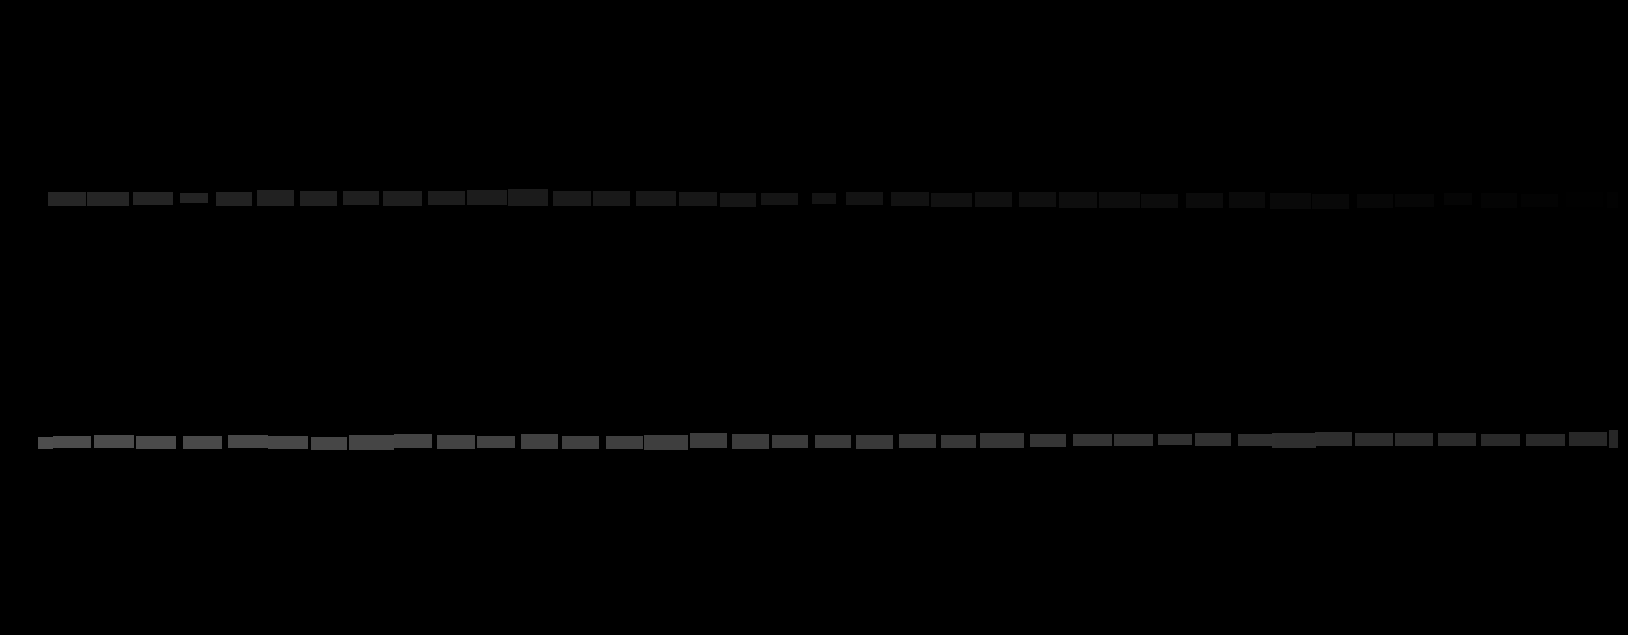light: (508, 189, 548, 206), (644, 435, 688, 450), (349, 435, 394, 450), (1272, 433, 1315, 448), (980, 433, 1024, 448), (1270, 193, 1311, 209), (1098, 192, 1140, 208), (636, 191, 676, 206), (467, 190, 507, 205), (257, 190, 294, 206), (87, 192, 129, 206), (1059, 192, 1097, 208), (383, 191, 422, 206), (931, 193, 972, 208), (1566, 192, 1603, 208), (1019, 192, 1056, 208), (975, 192, 1012, 208), (593, 191, 630, 206), (553, 191, 591, 206), (300, 191, 337, 206), (732, 434, 769, 449), (690, 433, 727, 448), (521, 434, 558, 449), (891, 192, 929, 206), (679, 192, 717, 206), (48, 192, 86, 206), (1569, 432, 1607, 446), (394, 434, 432, 448), (1229, 192, 1265, 208), (133, 192, 173, 205), (268, 436, 308, 449), (136, 436, 177, 449), (1186, 193, 1223, 208), (428, 191, 465, 205), (899, 434, 937, 448), (856, 435, 893, 449), (437, 435, 474, 449), (228, 435, 268, 448), (183, 436, 222, 449), (94, 435, 134, 448), (1481, 193, 1517, 208), (1312, 194, 1349, 209), (720, 193, 756, 208), (343, 191, 379, 205), (216, 192, 252, 206), (1315, 432, 1352, 446), (1395, 194, 1434, 208), (1438, 433, 1476, 446), (1355, 433, 1393, 446), (1521, 194, 1558, 208), (1141, 194, 1178, 208), (1395, 433, 1433, 446), (562, 436, 599, 449), (1481, 434, 1520, 446), (1114, 434, 1154, 446), (1073, 434, 1112, 446), (1357, 194, 1393, 208), (846, 192, 883, 205), (1195, 433, 1231, 446), (1030, 434, 1066, 447), (815, 435, 851, 448), (606, 436, 643, 449), (1526, 434, 1565, 446), (477, 436, 515, 448), (53, 436, 91, 448), (941, 435, 976, 448), (772, 435, 808, 448), (311, 437, 347, 450), (761, 193, 798, 205), (1238, 434, 1275, 446), (1158, 434, 1192, 445), (1444, 193, 1472, 205), (180, 193, 208, 203), (812, 193, 836, 204), (38, 437, 53, 449), (1607, 192, 1618, 208), (1609, 430, 1618, 448)
